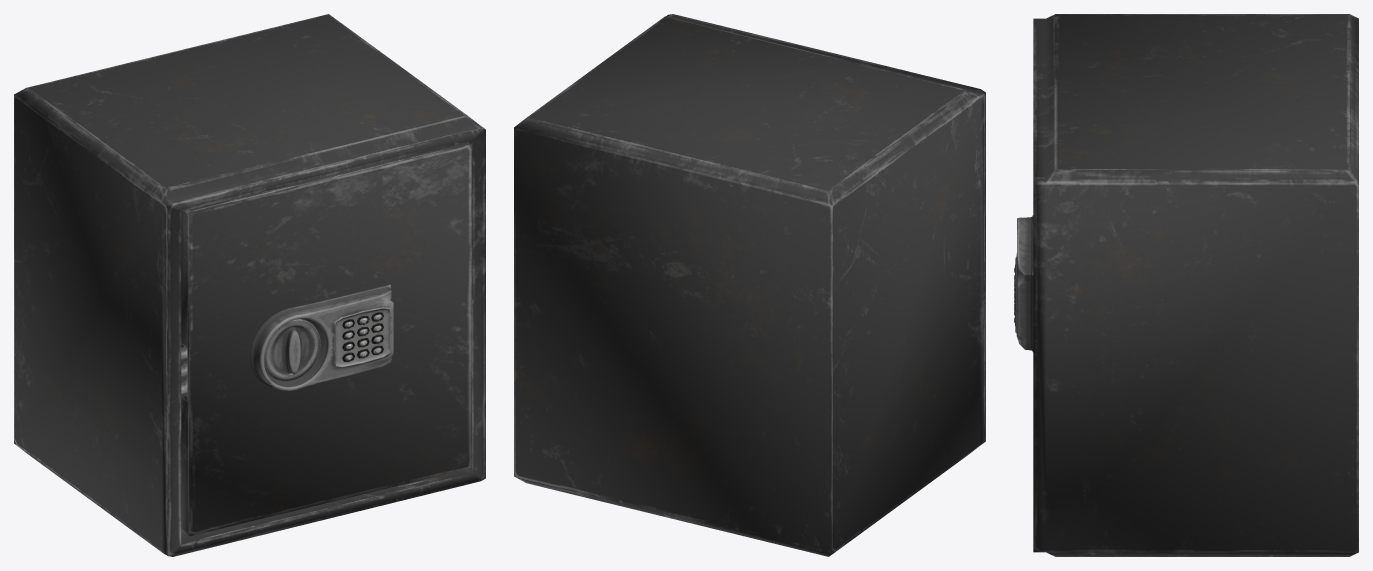
The model's file is safe.glb.
3 views of the same model, side by side, from view 1: azimuth 30°, elevation 25°; view 2: azimuth 150°, elevation 25°; view 3: azimuth 270°, elevation 25° (orthographic). The views are drawn at different scales.
Visible parts, largest first — view 1: Object_2, Door; view 2: Object_2; view 3: Object_2, Door.
Part boxes in pixels (x1,y1,x2,y2): Object_2: [14, 14, 485, 556]; Door: [181, 144, 471, 536]; Object_2: [514, 14, 985, 556]; Object_2: [1033, 14, 1358, 556]; Door: [1014, 215, 1033, 352].
Bounding box in the file's own units: 68.55 × 75.23 × 60.82.
2 materials, 2 textured.
